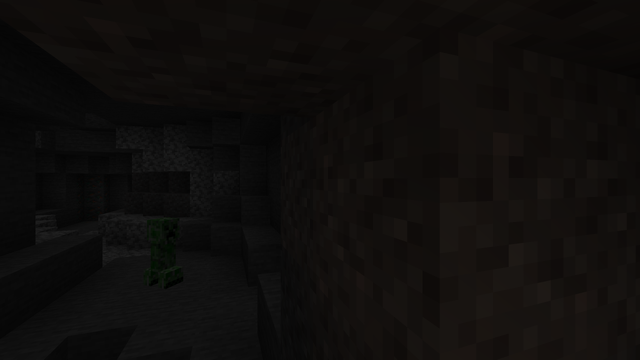creepers: (146, 214, 178, 289)
